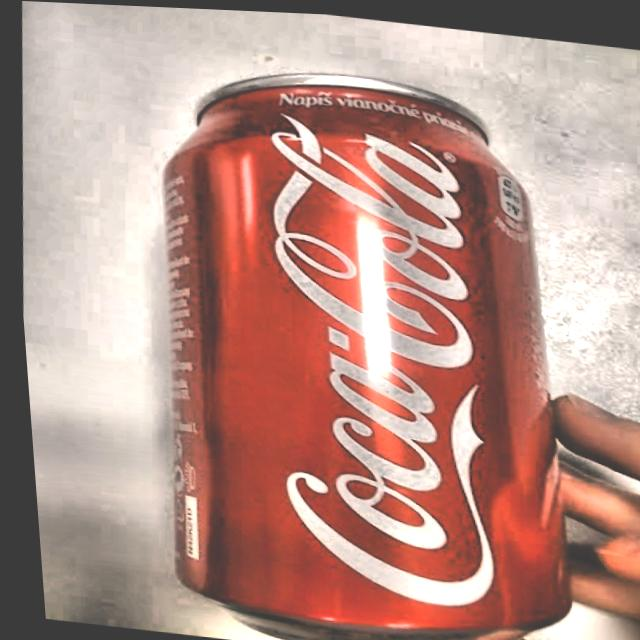Cans: (96, 29, 612, 640)
